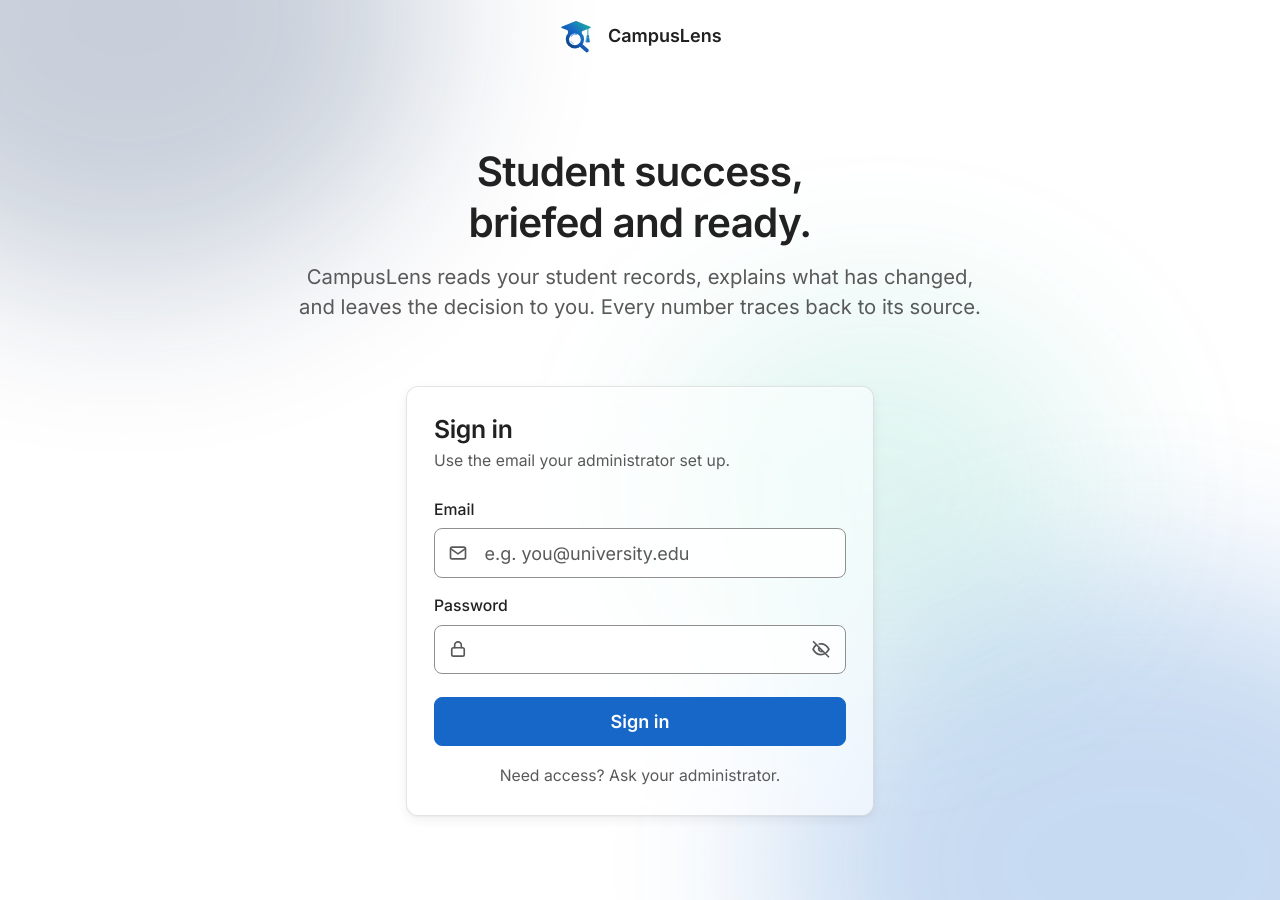
Test case: LoginScreen › shows a named failure under the button and lets the person try again
Type "president@demo.test" into the field labelled "Email" at [640, 553], box [434,528,846,578]
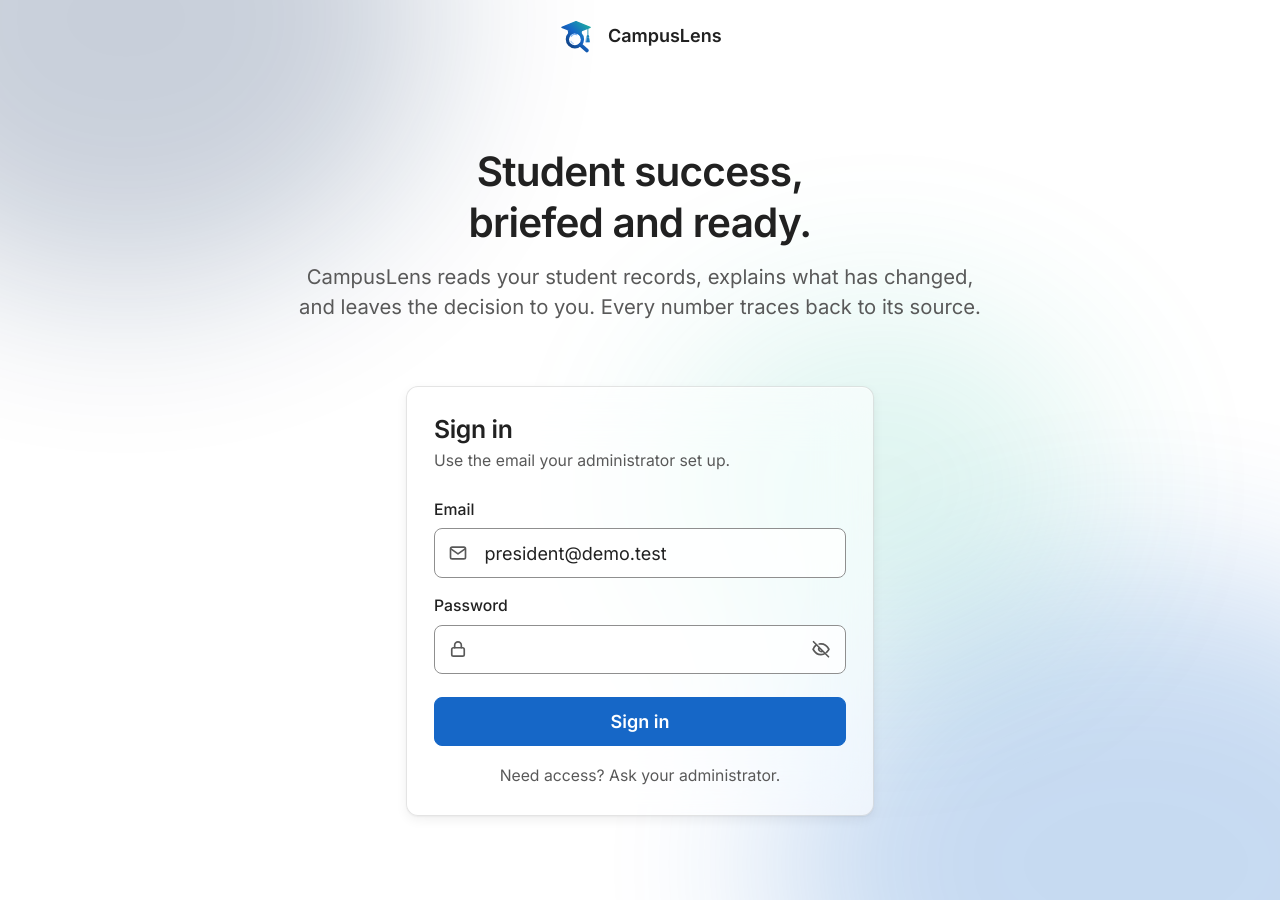
Type "wrong" into the password field labelled "Password" at [640, 649], box [434,625,846,674]
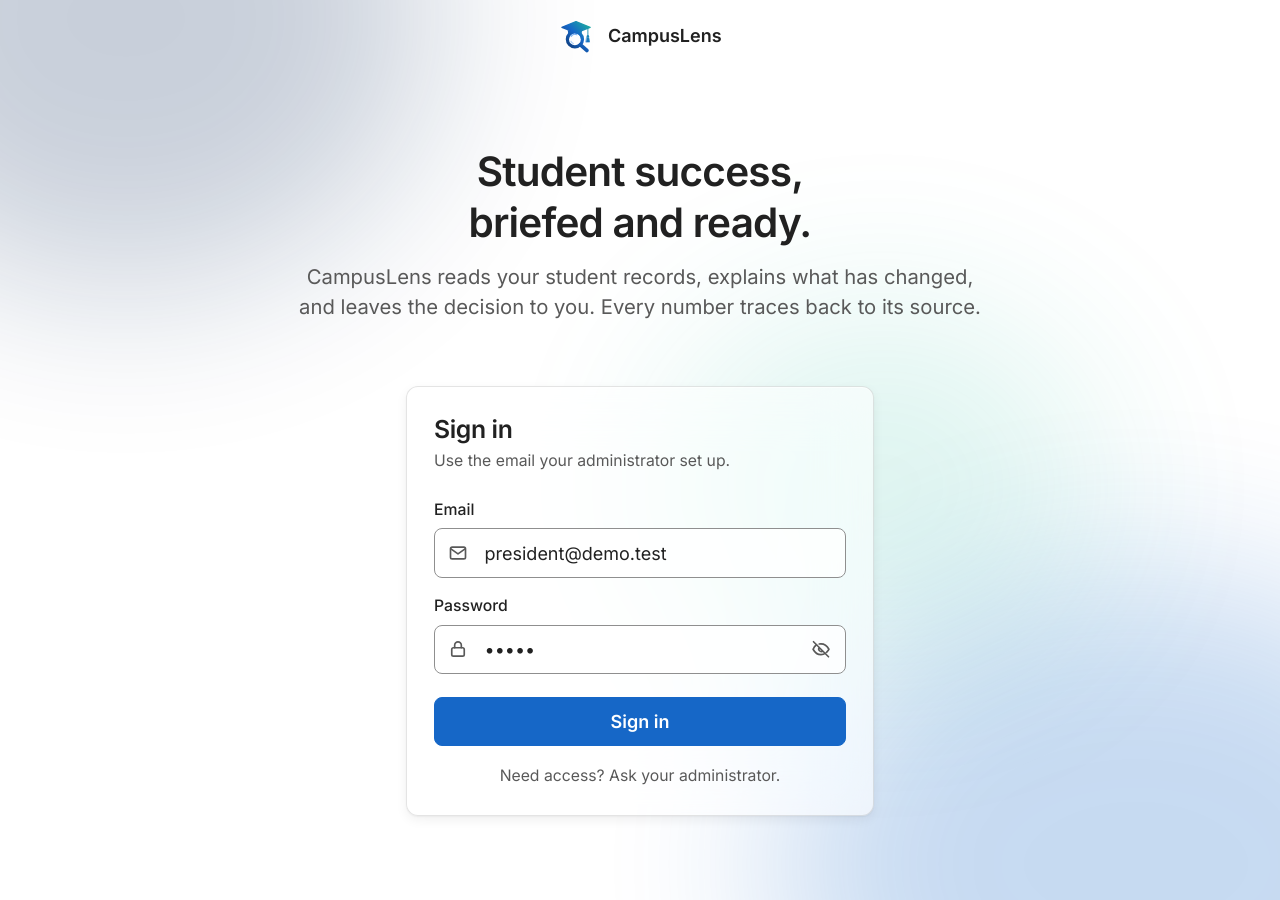
Click the button "Sign in" at [640, 721], box [434,697,846,746]
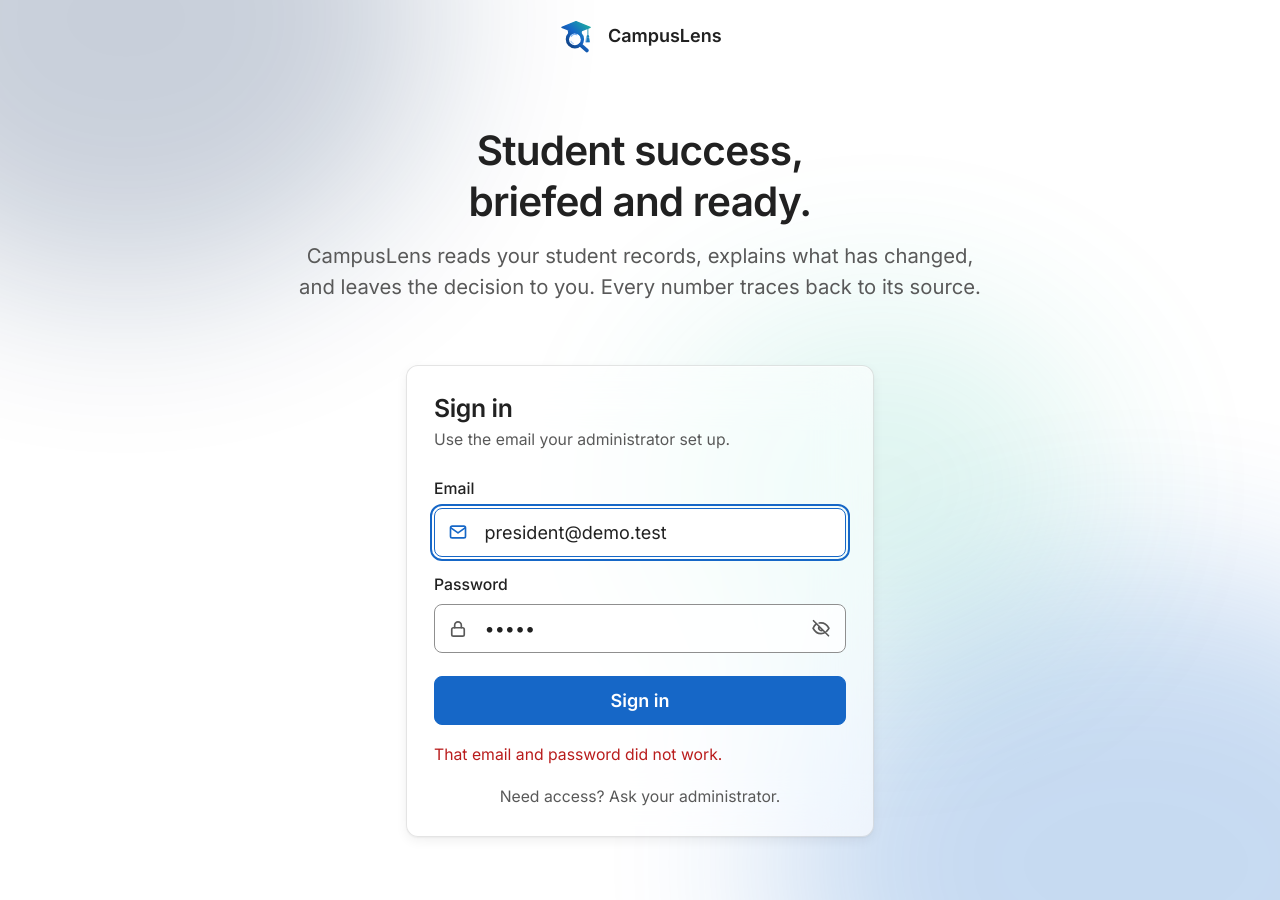
Expected: the button "Sign in" is enabled, [434,676,846,725]
Expected: the message reads "That email and password did not work.", [434,745,722,764]
